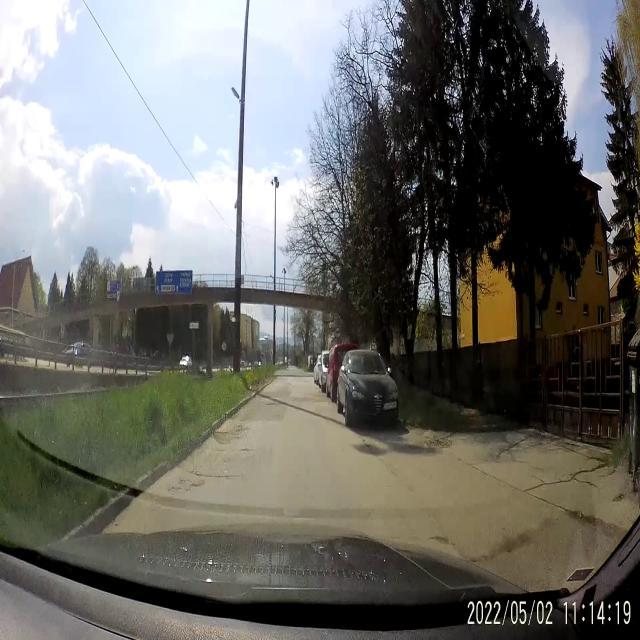Pothole: (212, 422, 240, 454), (172, 468, 206, 494)
